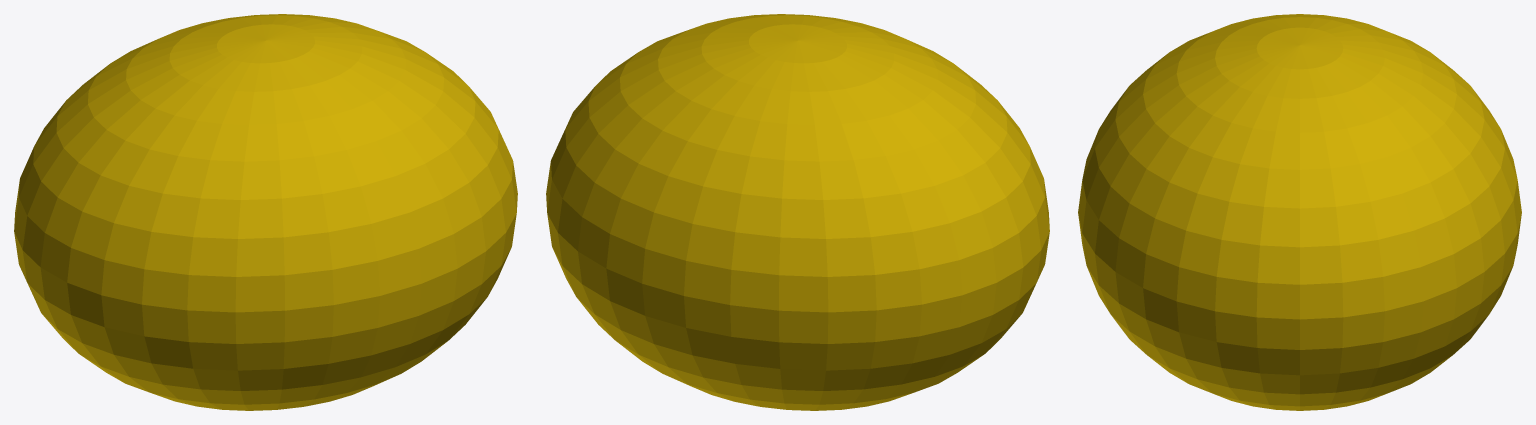
The model's file is sol8.obj.
3 renders of one model, left to right at view 1: azimuth 30°, elevation 25°; view 2: azimuth 150°, elevation 25°; view 3: azimuth 270°, elevation 25°, orthographic. The views are drawn at different scales.
Visible parts, largest first — view 1: Sphere; view 2: Sphere; view 3: Sphere.
Part boxes in pixels (x1,y1,x2,y2): Sphere: (14, 14, 517, 410); Sphere: (546, 14, 1049, 410); Sphere: (1078, 14, 1521, 410).
Bounding box in the file's own units: 0.3516 × 0.2562 × 0.3082.
